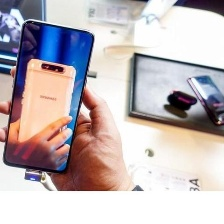phone: (0, 13, 98, 177), (15, 56, 80, 171), (186, 72, 224, 126)
